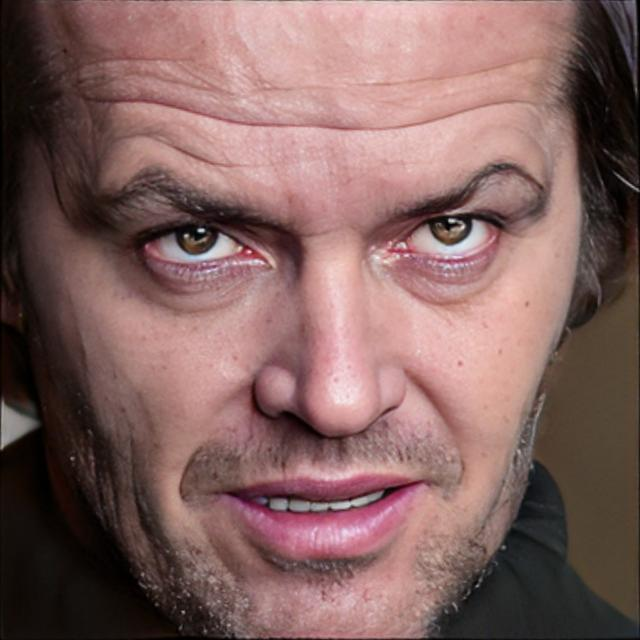anger: (68, 21, 550, 627)
